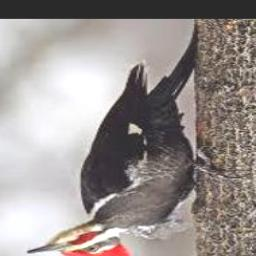Woodpecker: (28, 21, 241, 256)
